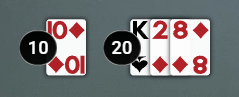10: (45, 18, 69, 41)
2: (149, 18, 170, 41)
8: (169, 18, 191, 41)
k: (129, 18, 150, 43)
